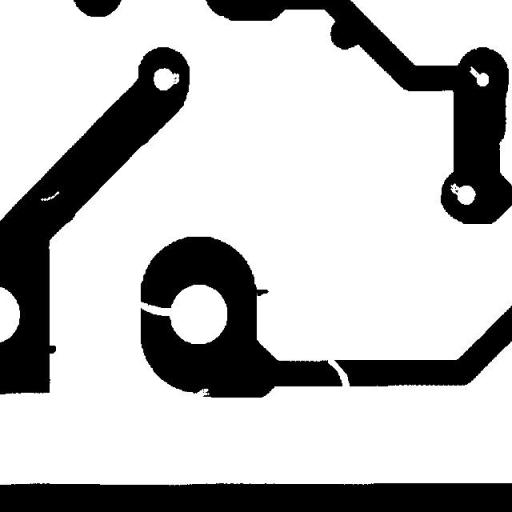mousebite: (442, 175, 468, 203), (186, 381, 217, 404), (462, 58, 486, 85), (164, 65, 186, 92)
open: (314, 341, 356, 395), (126, 290, 180, 323)
pin-hole: (33, 183, 66, 208)
spur: (242, 282, 276, 303), (39, 338, 63, 360)
